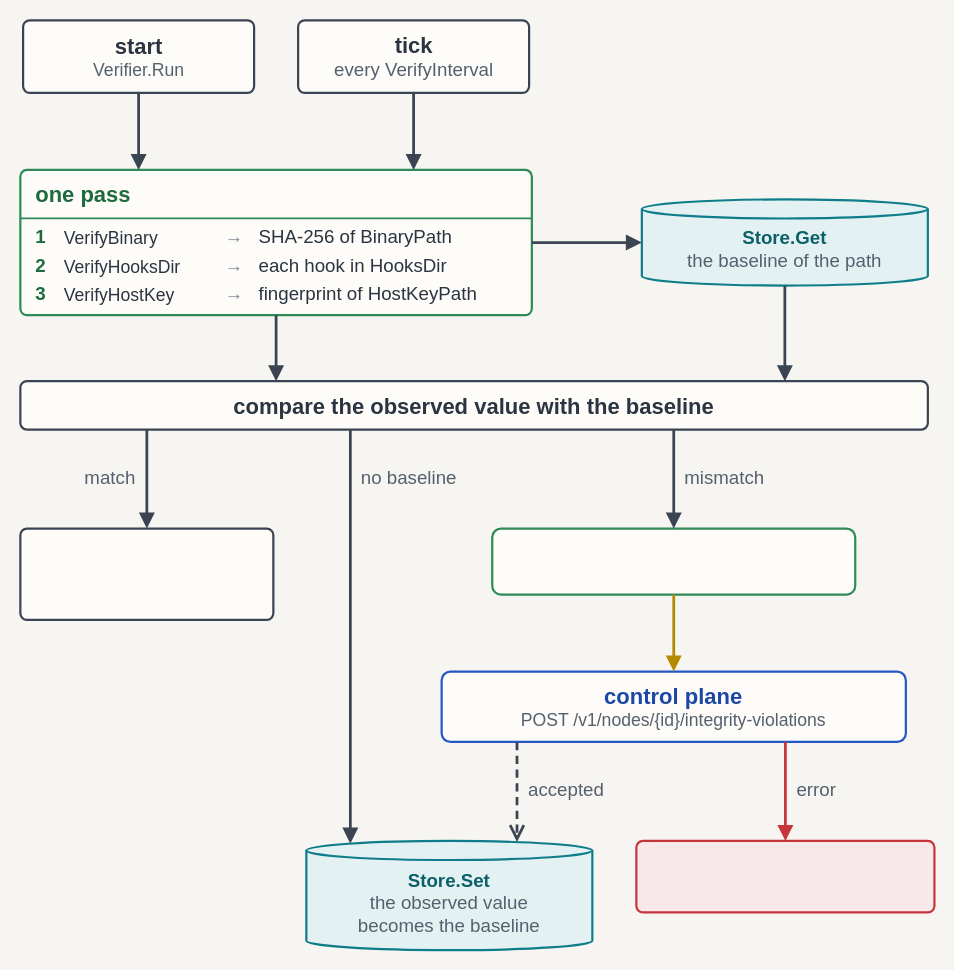
This 954x970 diagram has some shape labels left out. The centre of each missing label's shape, as x and y in pixels:
"keep the baseline the next pass reports again" belongs at [785,876].
"log the match binary verified host key verified" belongs at [146,573].
"ViolationReporter .ReportViolations" belongs at [673,561].
